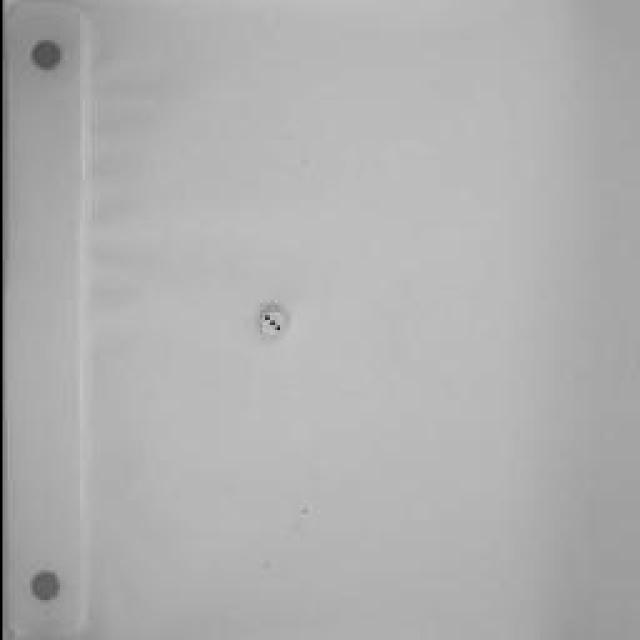dice_3: (255, 305, 280, 335)
